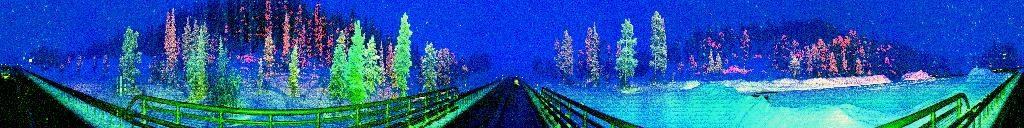pole: (118, 72, 124, 106)
